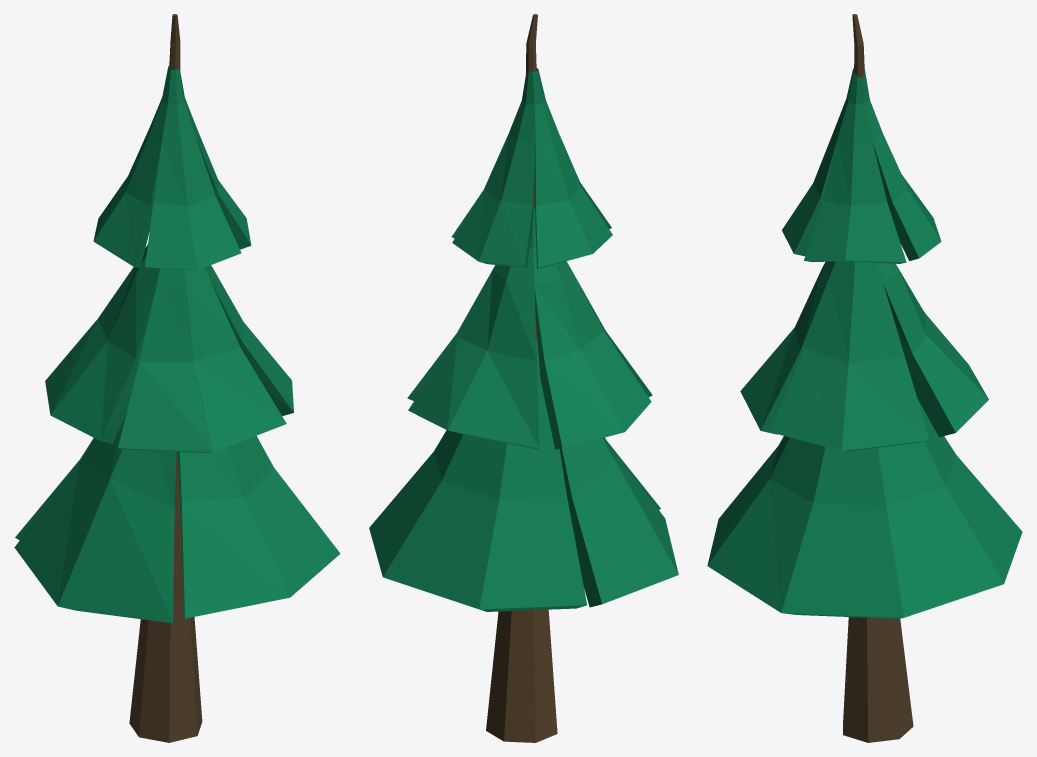
Rendered from spruce2.obj.
The picture shows the model from 3 angles, left to right: view 1: azimuth 30°, elevation 25°; view 2: azimuth 150°, elevation 25°; view 3: azimuth 270°, elevation 25°; orthographic projection.
Size of the model in its own units: 5.29 by 13.19 by 5.29.
